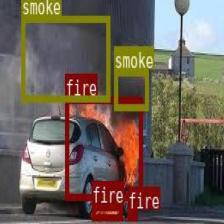fire: (64, 95, 142, 199), (91, 202, 122, 220), (127, 210, 137, 219)
smoke: (21, 15, 110, 101), (113, 68, 148, 109)
